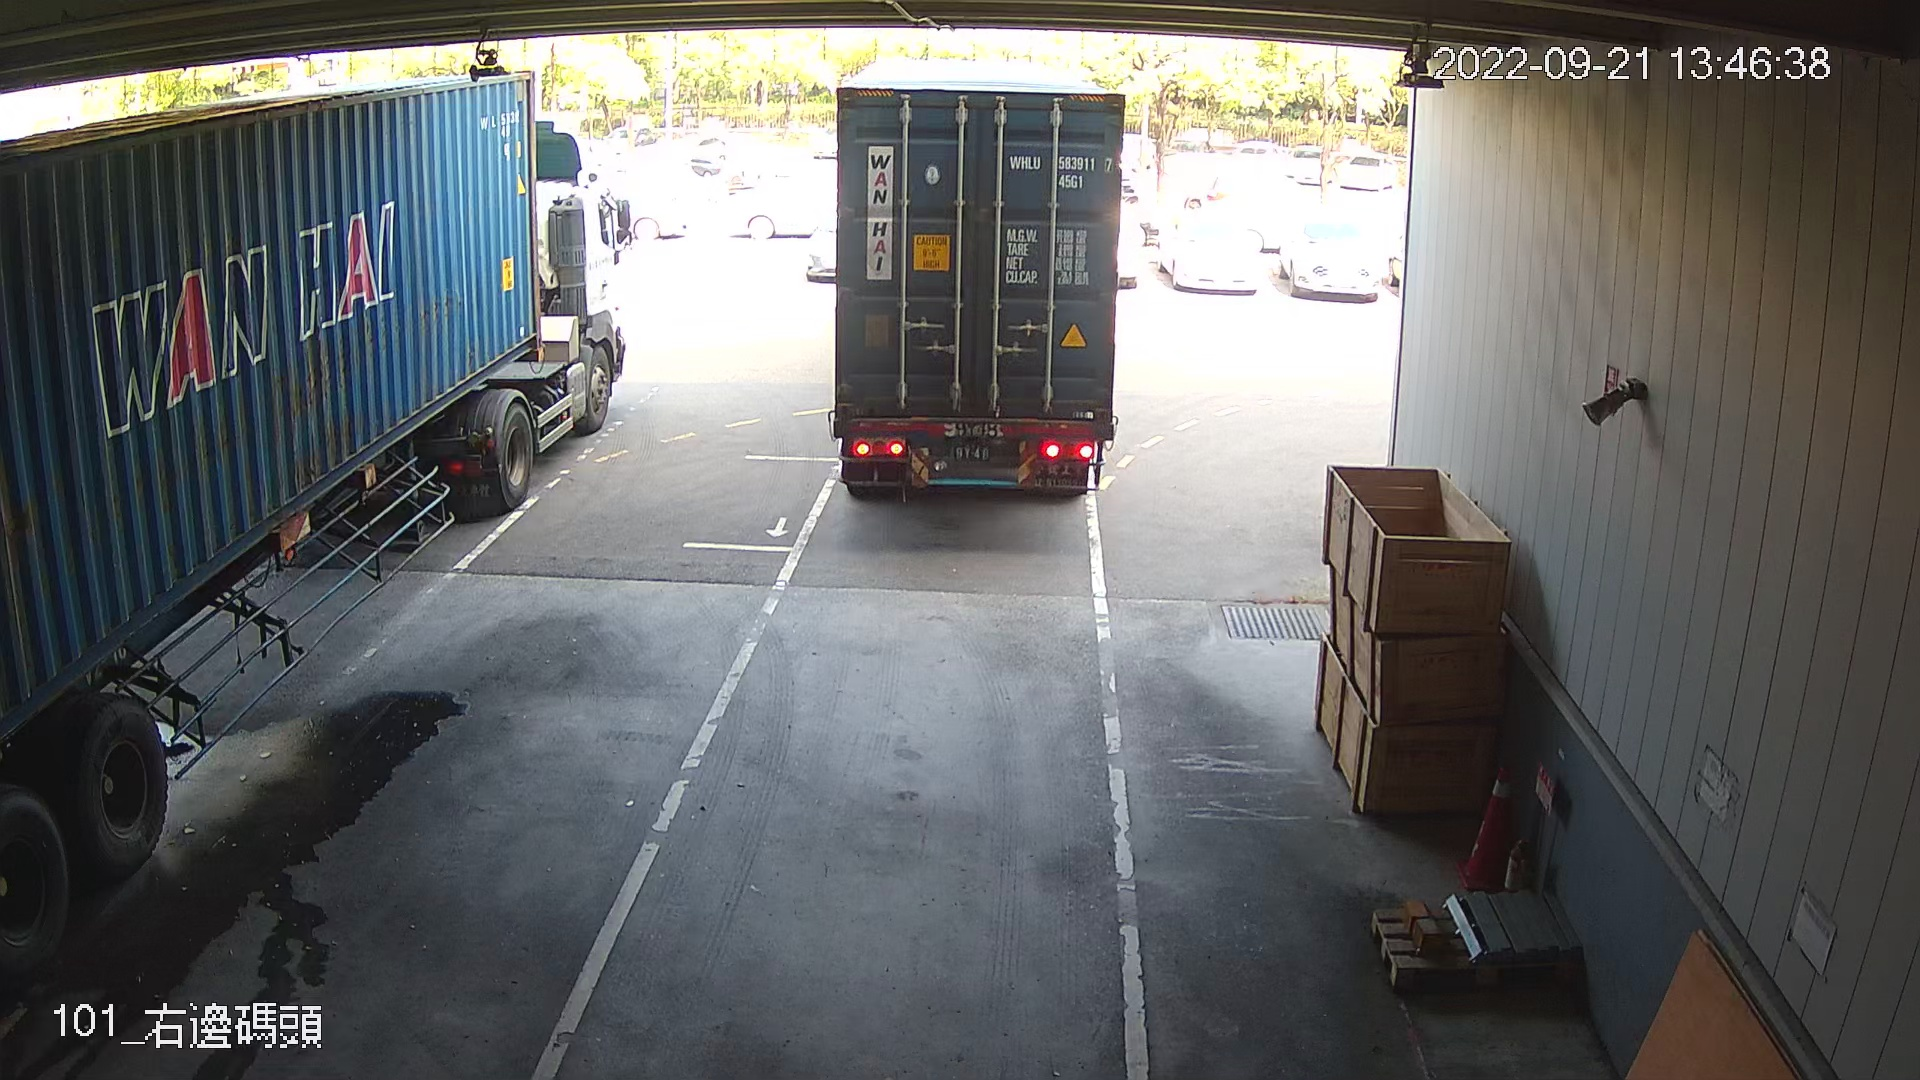container: (1004, 148, 1116, 195)
